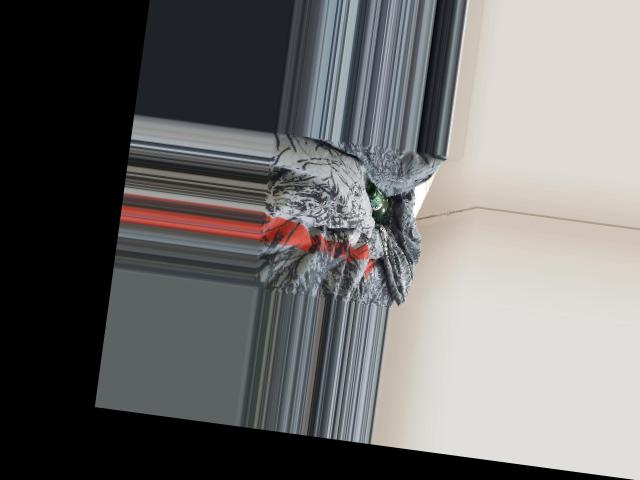beer: (361, 181, 393, 226)
